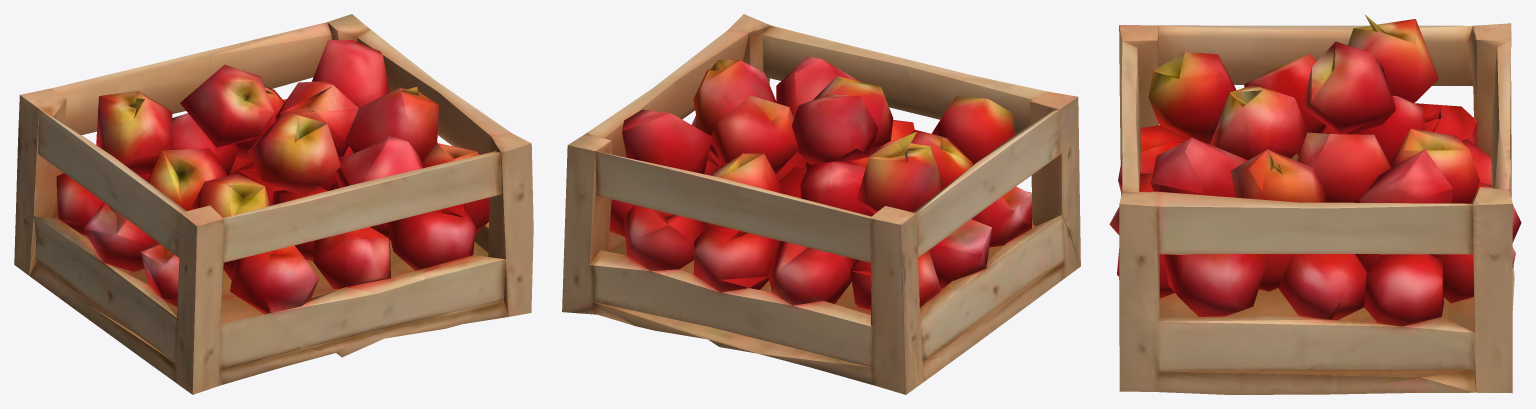
Rendered from appleCrate.glb.
3 views of the same model, side by side, from view 1: azimuth 30°, elevation 25°; view 2: azimuth 150°, elevation 25°; view 3: azimuth 270°, elevation 25° (orthographic). The views are drawn at different scales.
Parts seen in each view (by area): view 1: model; view 2: model; view 3: model.
Boxes of the visible parts, x1,y1,x2,y2 form: model: (14,14,533,394); model: (562,14,1080,394); model: (1109,15,1521,394).
Size of the model in its own units: 1.9 by 1.11 by 1.75.
Materials: 1 (1 with a texture image).
